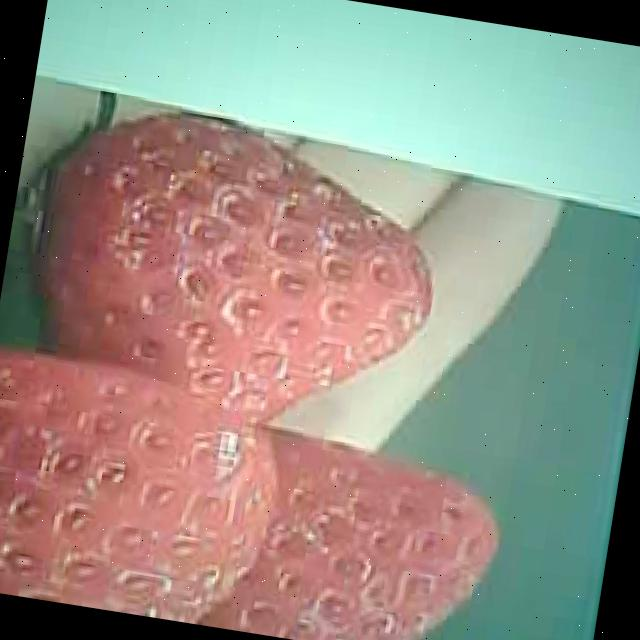strawberry: (32, 96, 452, 443), (0, 347, 282, 632), (208, 422, 508, 640)
